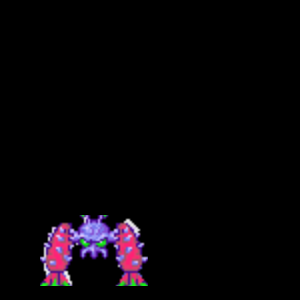Enemy: (40, 215, 148, 286)
